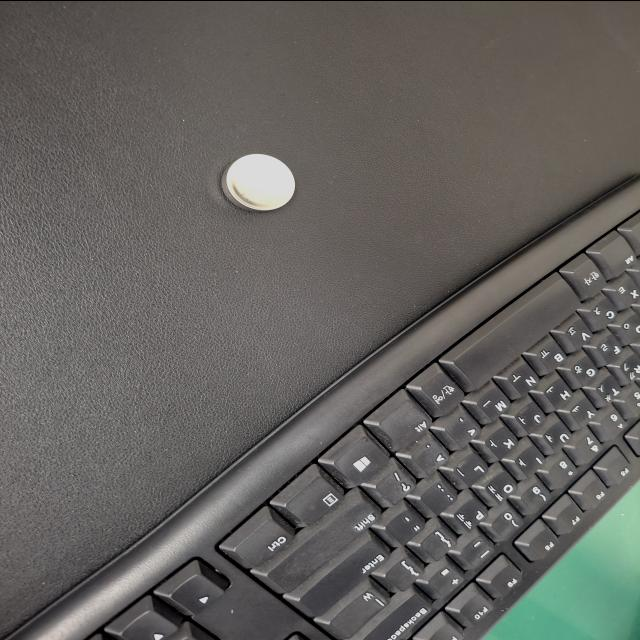COIN: (573, 327, 640, 382)
